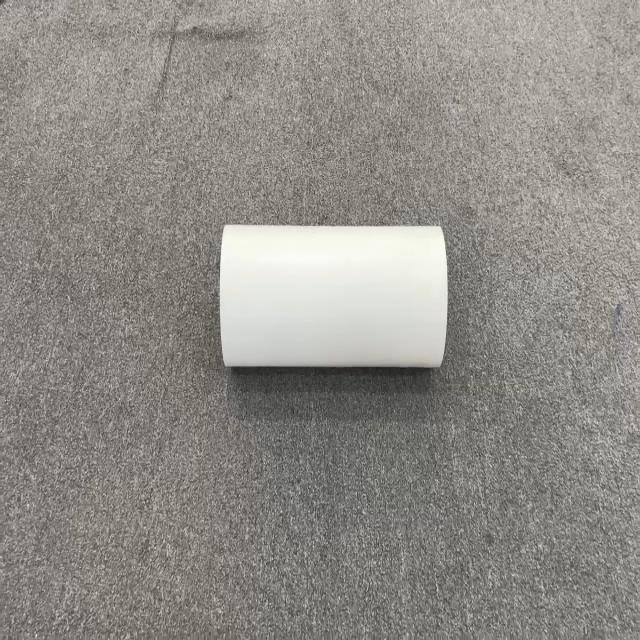coral: (218, 222, 448, 370)
